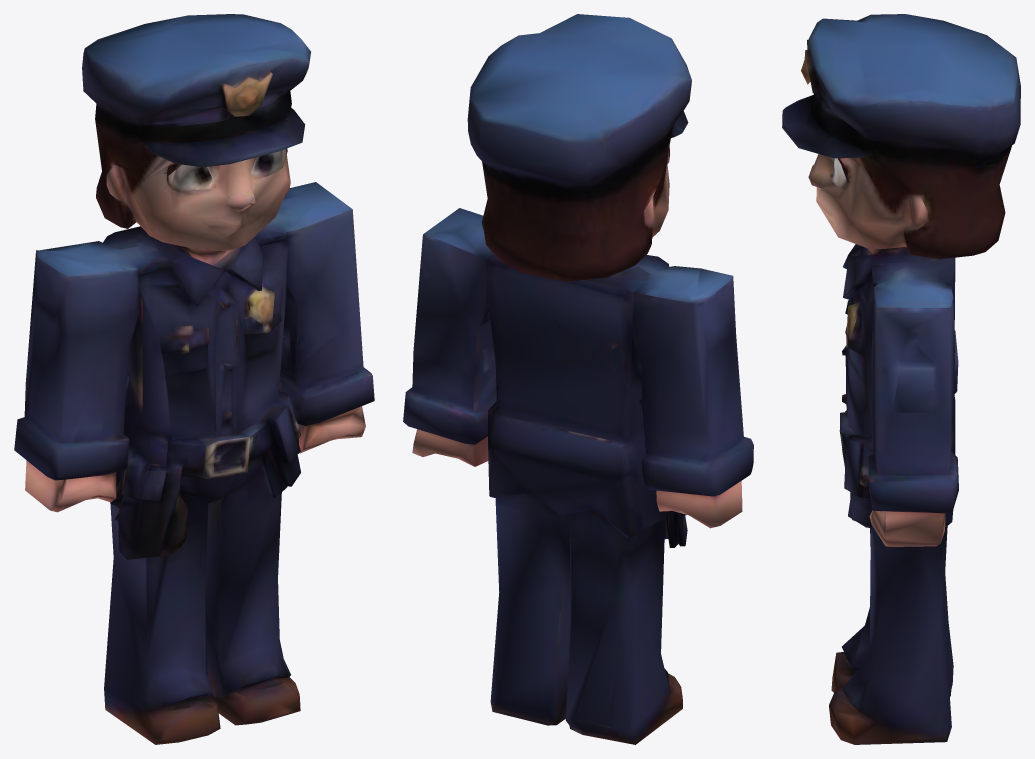
The model's file is full-police.glb.
The picture shows the model from 3 angles, left to right: view 1: azimuth 30°, elevation 25°; view 2: azimuth 150°, elevation 25°; view 3: azimuth 270°, elevation 25°; orthographic projection. The views are drawn at different scales.
Parts seen in each view (by area): view 1: material; view 2: material; view 3: material.
Part boxes in pixels (x1,y1,x2,y2): material: (14, 14, 374, 744); material: (403, 14, 753, 744); material: (782, 14, 1020, 744).
Size of the model in its own units: 0.9526 by 1.9 by 0.6112.
Materials: 1 (1 with a texture image).
